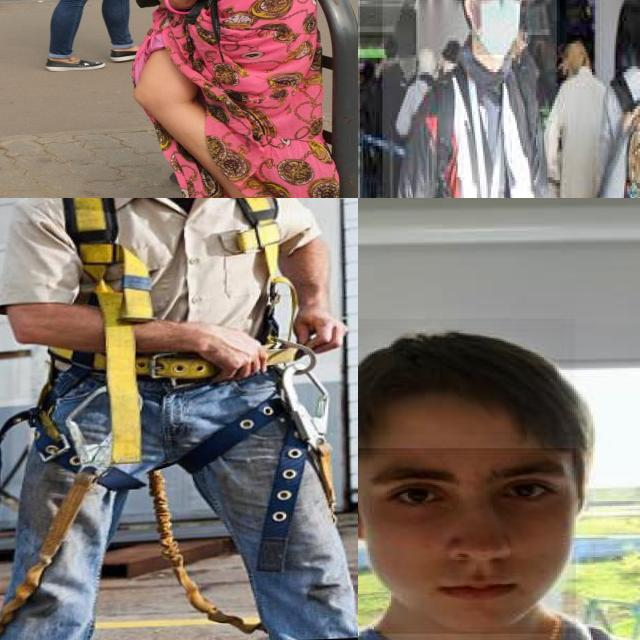Harness: (49, 198, 217, 448), (235, 198, 297, 344)
No_Glasses: (358, 452, 578, 518)
face_mask: (476, 0, 518, 57)
face_nomask: (358, 448, 576, 633)
head_nohelmet: (358, 318, 576, 435)
person: (358, 323, 640, 640), (382, 0, 558, 198)
